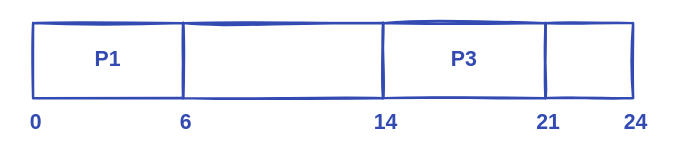
Some shapes in this 673 by 156 pixel diagram are drawn without their labels. Each missing label, with the box of its shape:
P2: (181, 21, 384, 99)
P4: (544, 21, 634, 99)
